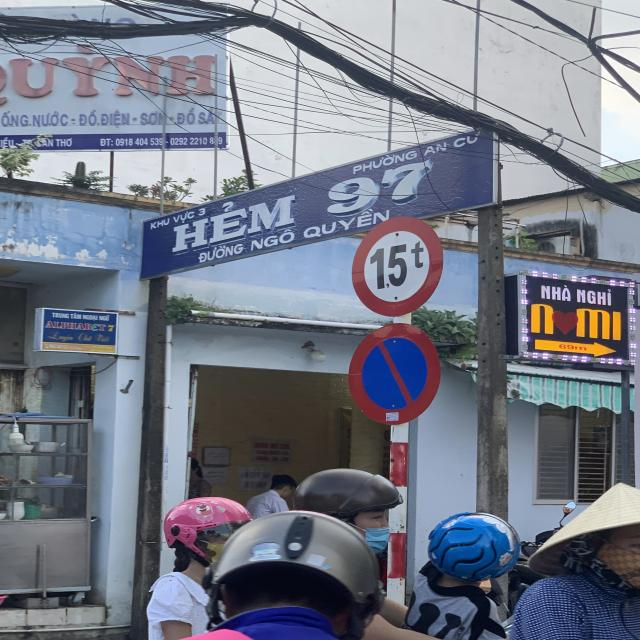Cam_Dau_Xe: (346, 322, 444, 426)
